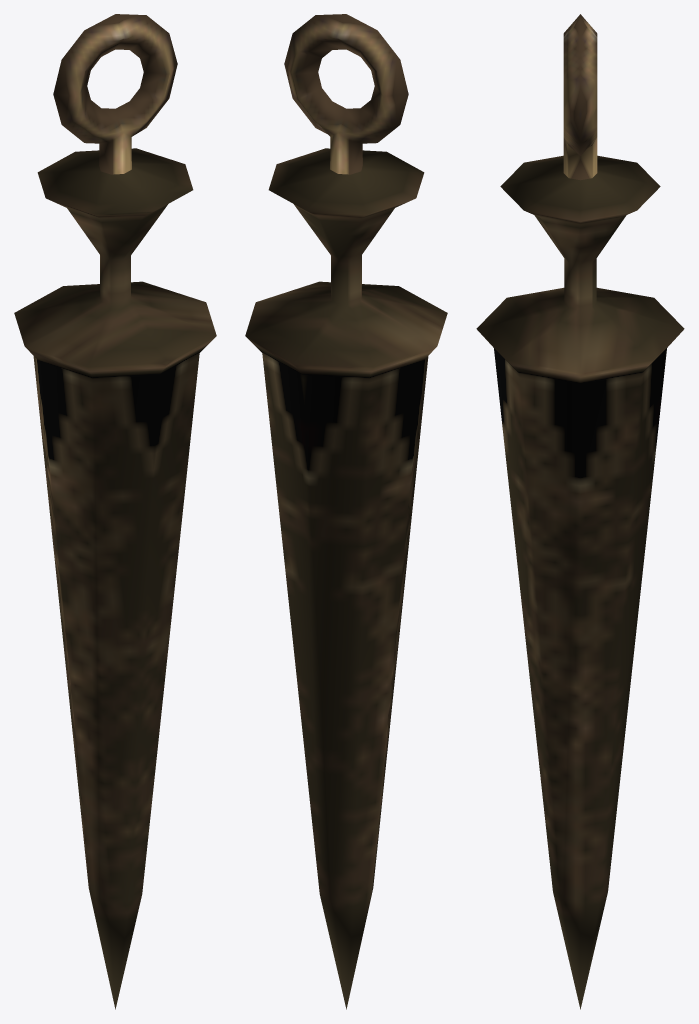
Rendered from ChainEnd.gltf.
3 views of the same model, side by side, from view 1: azimuth 30°, elevation 25°; view 2: azimuth 150°, elevation 25°; view 3: azimuth 270°, elevation 25° (orthographic).
Visible parts, largest first — view 1: ChainEnd; view 2: ChainEnd; view 3: ChainEnd.
Boxes of the visible parts, bbox=[...] form: ChainEnd: bbox=[14, 14, 216, 1009]; ChainEnd: bbox=[245, 14, 447, 1009]; ChainEnd: bbox=[476, 14, 684, 1009].
Size of the model in its own units: 0.3255 by 1.71 by 0.3255.
1 material, 1 textured.
